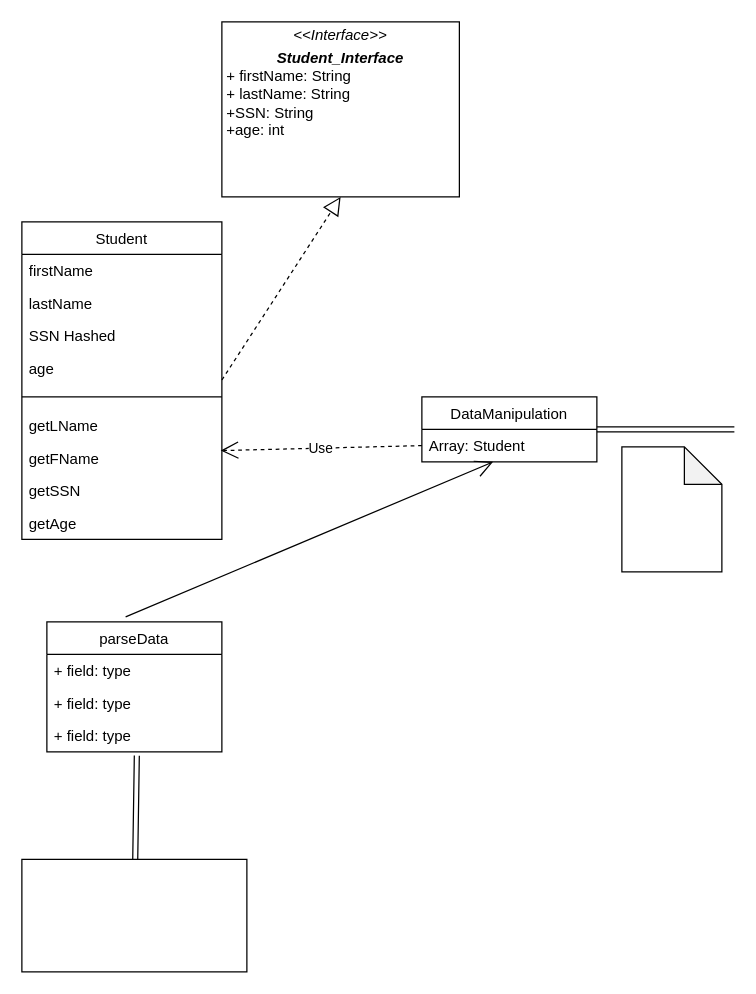
Image size: 756x994. Some labels were removed from this diagram. Here are the shapes that lost their labels. From the top down, the centre of each, then its label:
point 671,509: Create Json File
point 134,915: Student PK ssn first_name last_name age
